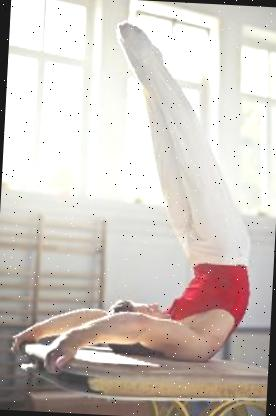person: (3, 11, 269, 380)
